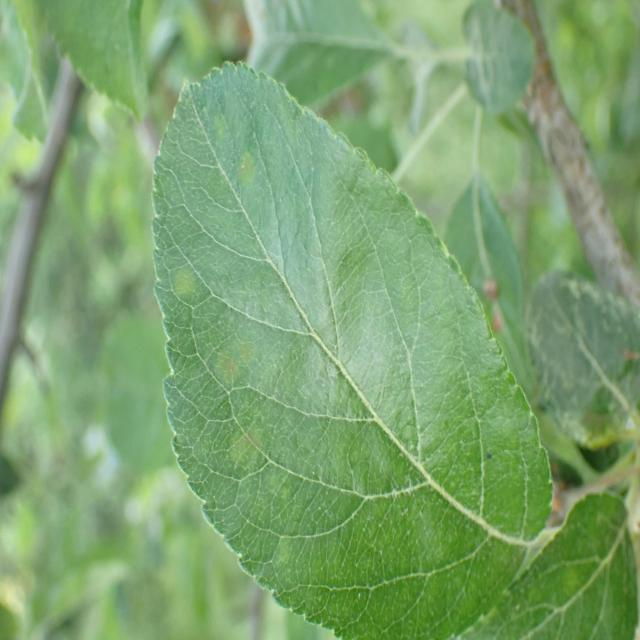scab: (160, 98, 446, 640)
